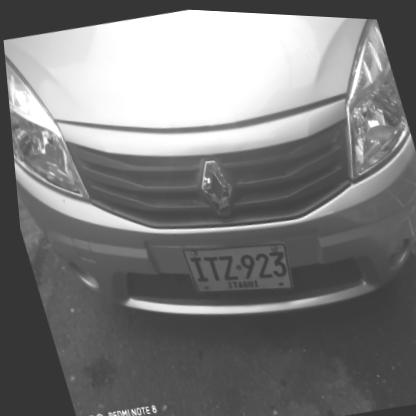placa: (168, 220, 300, 313)
